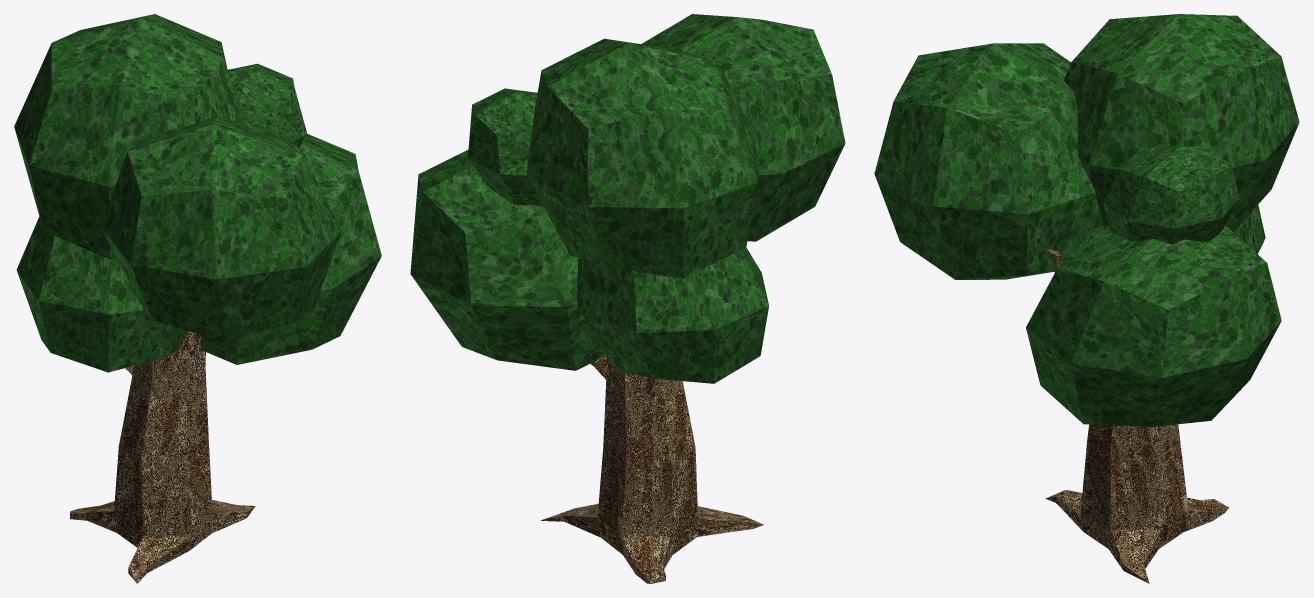
Rendered from oak.glb.
The picture shows the model from 3 angles, left to right: view 1: azimuth 30°, elevation 25°; view 2: azimuth 150°, elevation 25°; view 3: azimuth 270°, elevation 25°; orthographic projection. The views are drawn at different scales.
Parts seen in each view (by area): view 1: Cube.004; view 2: Cube.004; view 3: Cube.004.
Part boxes in pixels (x1,y1,x2,y2): Cube.004: (14,14,381,583); Cube.004: (410,14,845,583); Cube.004: (874,14,1299,583).
Bounding box in the file's own units: 8.04 × 11.44 × 8.49.
Materials: 2 (2 with a texture image).
